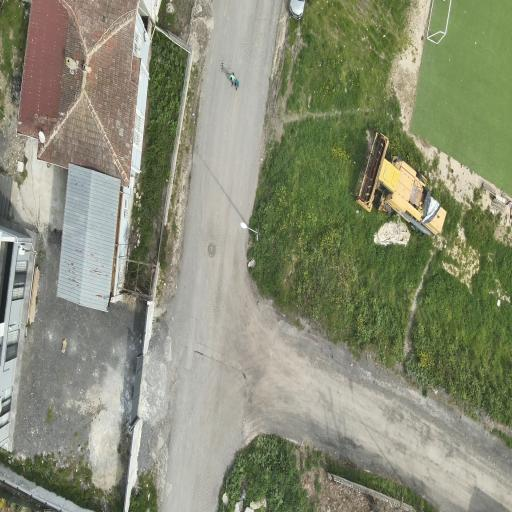car: (290, 0, 305, 19)
harvester: (356, 132, 446, 235)
person: (230, 74, 236, 86), (235, 79, 239, 90)
